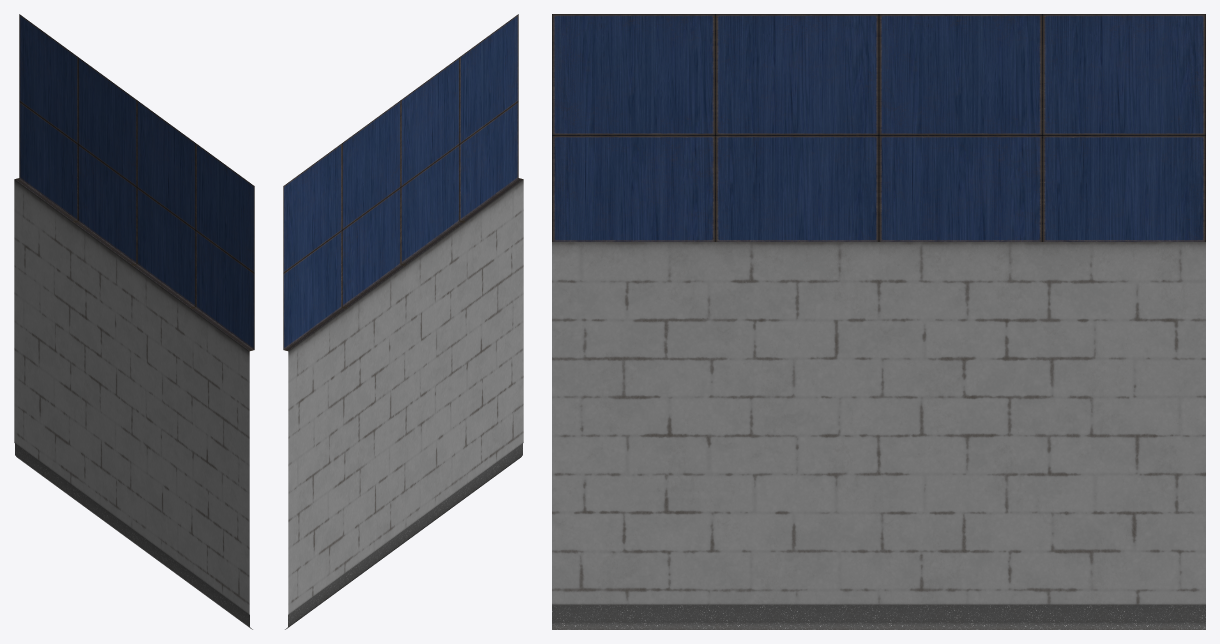
The model's file is Cafateria 4m Wall.fbx.
The picture shows the model from 3 angles, left to right: view 1: azimuth 30°, elevation 25°; view 2: azimuth 150°, elevation 25°; view 3: azimuth 270°, elevation 25°; orthographic projection. The views are drawn at different scales.
Parts seen in each view (by area): view 1: Cafateria_4M_Wall; view 2: Cafateria_4M_Wall; view 3: Cafateria_4M_Wall.
Part boxes in pixels (x1,y1,x2,y2): Cafateria_4M_Wall: (14,14,254,629); Cafateria_4M_Wall: (283,14,523,629); Cafateria_4M_Wall: (552,14,1205,629).
Bounding box in the file's own units: 5 × 416 × 400.
